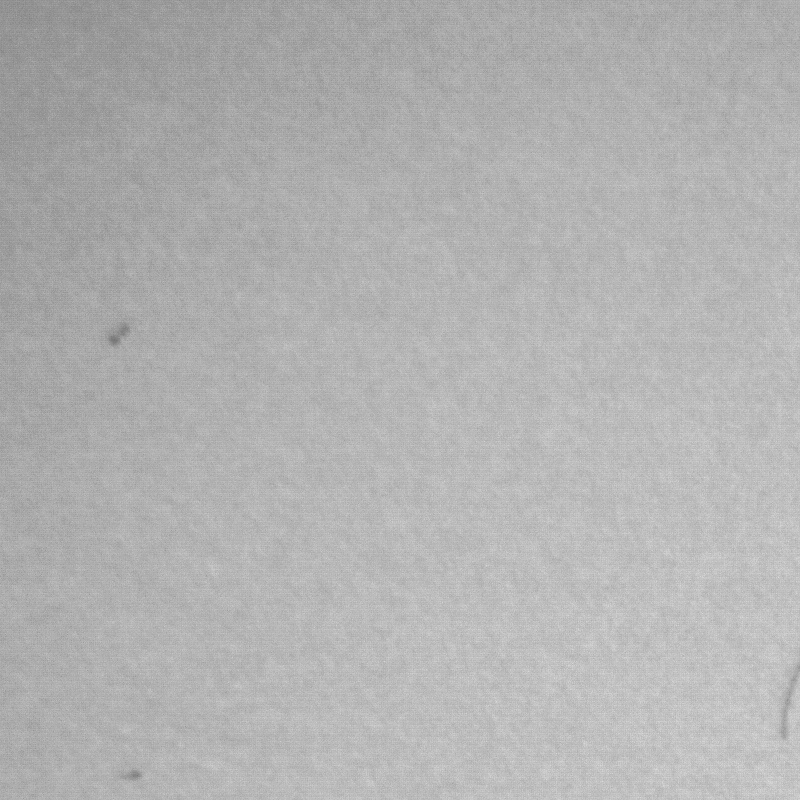defect: (778, 665, 798, 746), (110, 323, 136, 343), (121, 766, 146, 781)
